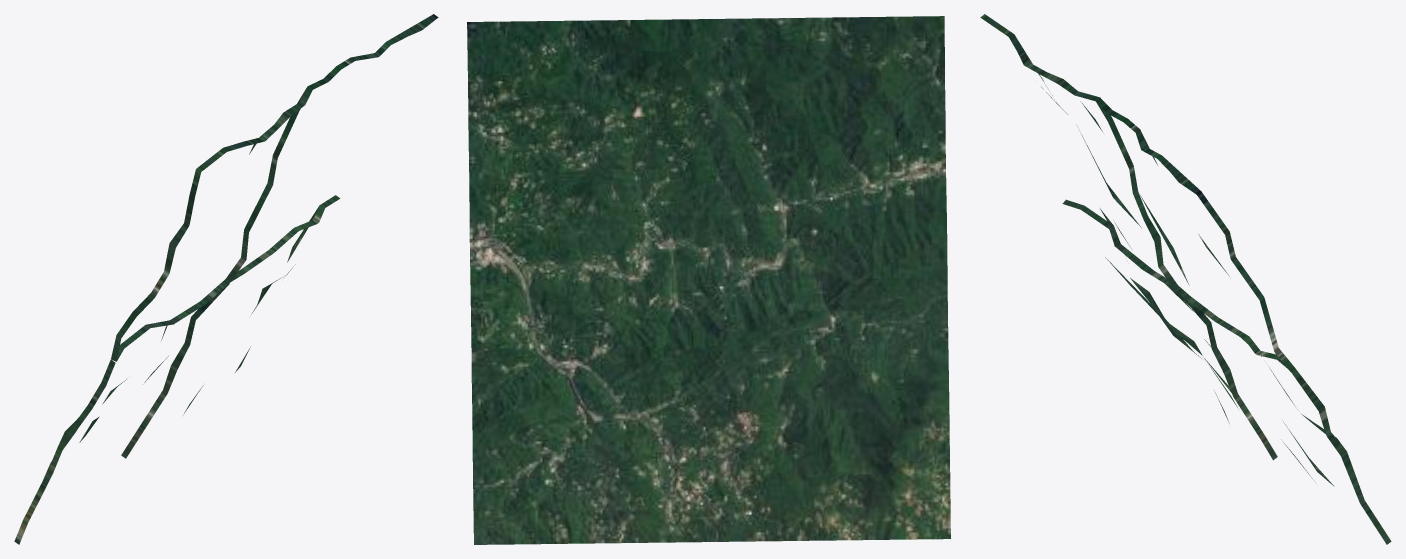
3 views of the same model, side by side, from view 1: azimuth 30°, elevation 25°; view 2: azimuth 150°, elevation 25°; view 3: azimuth 270°, elevation 25° (orthographic). The views are drawn at different scales.
Size of the model in its own units: 9989 by 9000 by 8141.
1 material, 1 textured.
